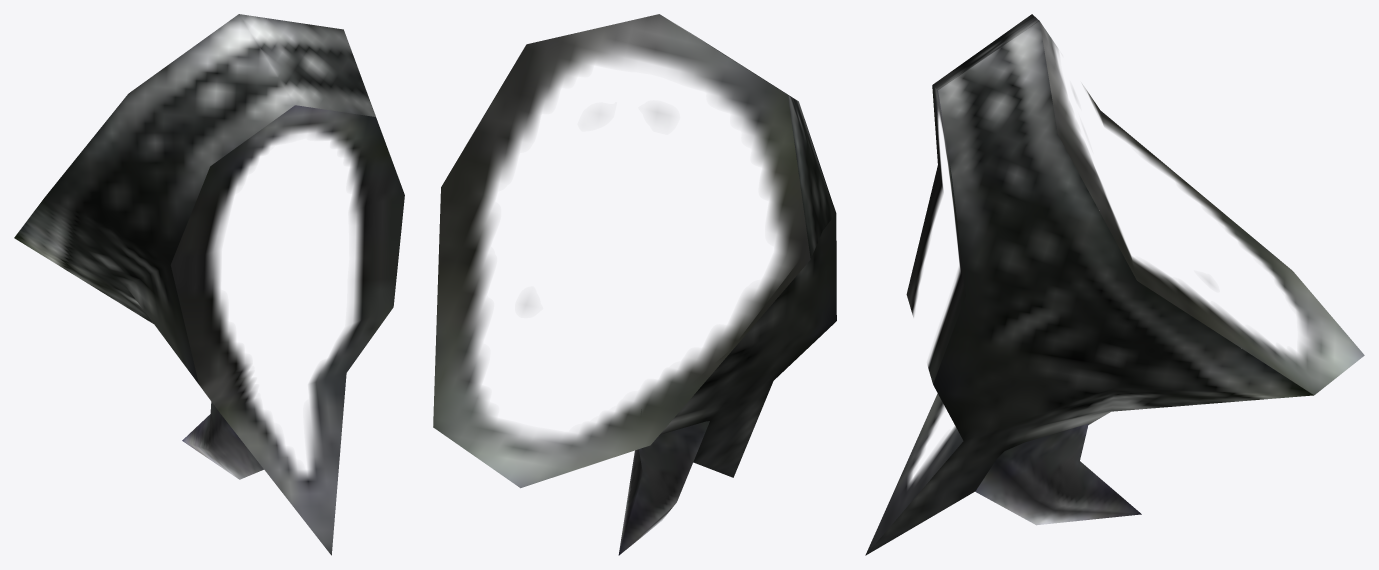
The model's file is shadow_pawn_7_knee_right.glb.
3 views of the same model, side by side, from view 1: azimuth 30°, elevation 25°; view 2: azimuth 150°, elevation 25°; view 3: azimuth 270°, elevation 25° (orthographic). The views are drawn at different scales.
Parts seen in each view (by area): view 1: model_shadow_pawn_7_knee_right; view 2: model_shadow_pawn_7_knee_right; view 3: model_shadow_pawn_7_knee_right.
Boxes of the visible parts, bbox=[...] form: model_shadow_pawn_7_knee_right: bbox=[14, 14, 404, 555]; model_shadow_pawn_7_knee_right: bbox=[433, 14, 836, 555]; model_shadow_pawn_7_knee_right: bbox=[865, 14, 1364, 555].
Size of the model in its own units: 0.2261 by 0.3268 by 0.2801.
Materials: 1 (1 with a texture image).
